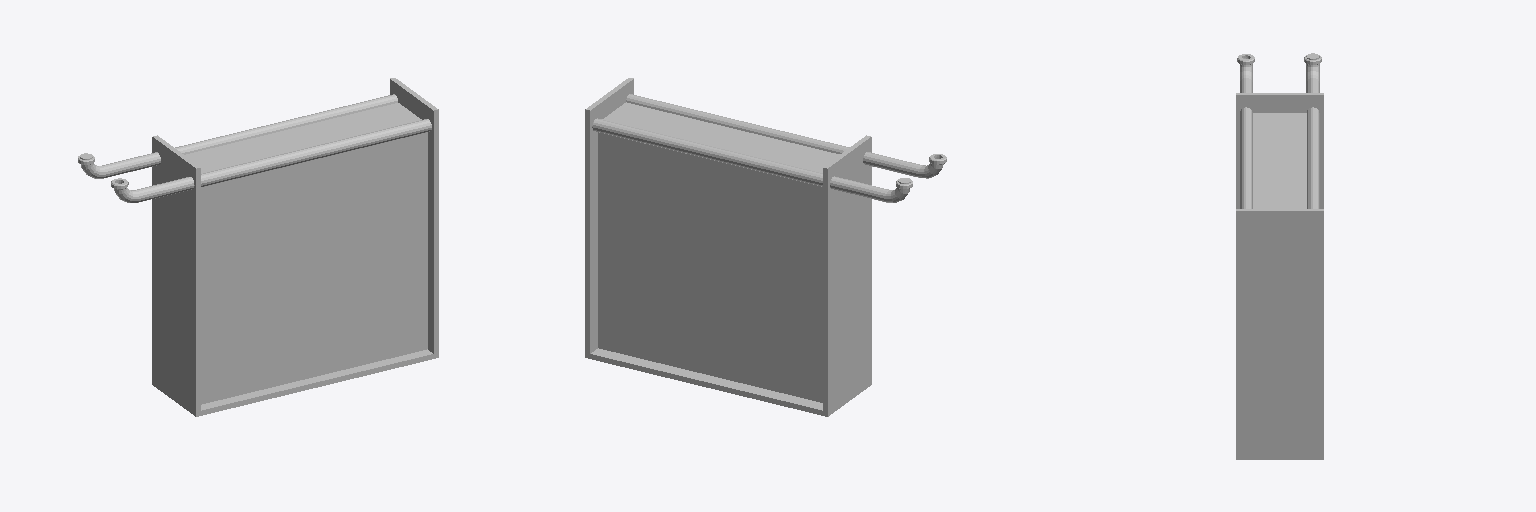
The model's file is coolingCoil_xup.obj.
3 views of the same model, side by side, from view 1: azimuth 30°, elevation 25°; view 2: azimuth 150°, elevation 25°; view 3: azimuth 270°, elevation 25° (orthographic).
Parts seen in each view (by area): view 1: CoolingCoil_CoolingCoilGeom; view 2: CoolingCoil_CoolingCoilGeom; view 3: CoolingCoil_CoolingCoilGeom.
Boxes of the visible parts, x1,y1,x2,y2 form: CoolingCoil_CoolingCoilGeom: [78, 78, 438, 416]; CoolingCoil_CoolingCoilGeom: [585, 78, 946, 416]; CoolingCoil_CoolingCoilGeom: [1236, 53, 1323, 459].
Size of the model in its own units: 2.33 by 1.73 by 0.5496.